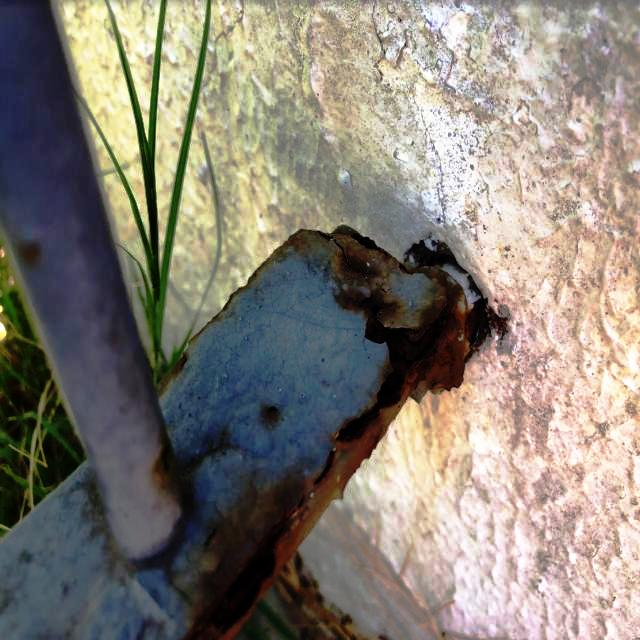Corrosion: (176, 223, 469, 640), (152, 428, 175, 487), (263, 398, 281, 421)
